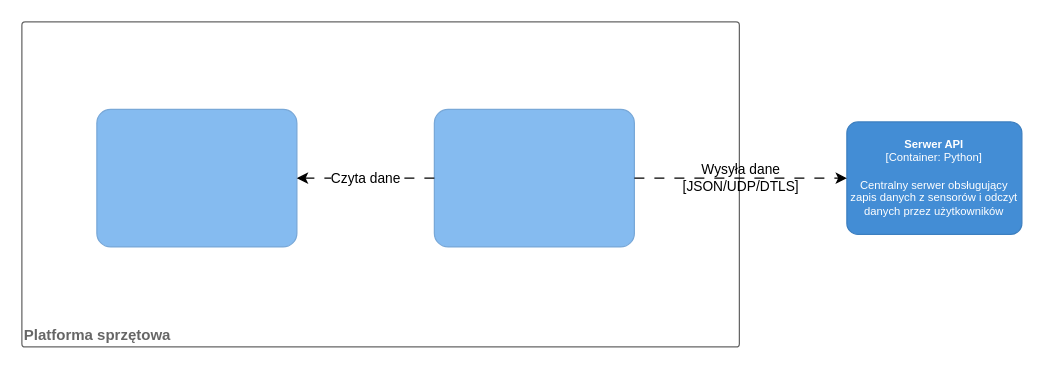
Some shapes in this 1044 by 369 pixel diagram are drawn without their labels. The box of each missing label's shape, as (x1, y1, x2, y2) in pixels:
Klient [Component: RIOT OS/C] Klient wysyłający dane: (433, 108, 634, 247)
Sensor [Component: RIOT OS/C] Sensor zbierający pomiary: (96, 108, 297, 247)
